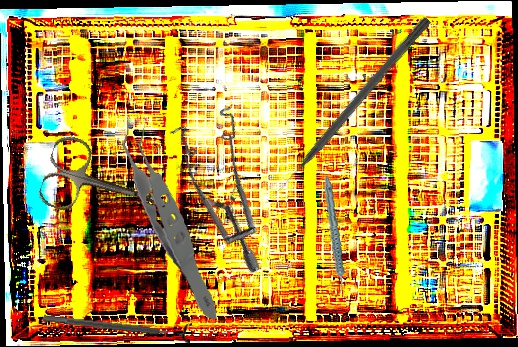Fixation Ring: (42, 306, 192, 345)
Handpiece: (311, 176, 355, 295)
Iris Scissors: (35, 132, 186, 243)
Pusher: (273, 14, 432, 195)
Speculum: (137, 87, 327, 276)
Tissue Forceps: (102, 112, 242, 320)
